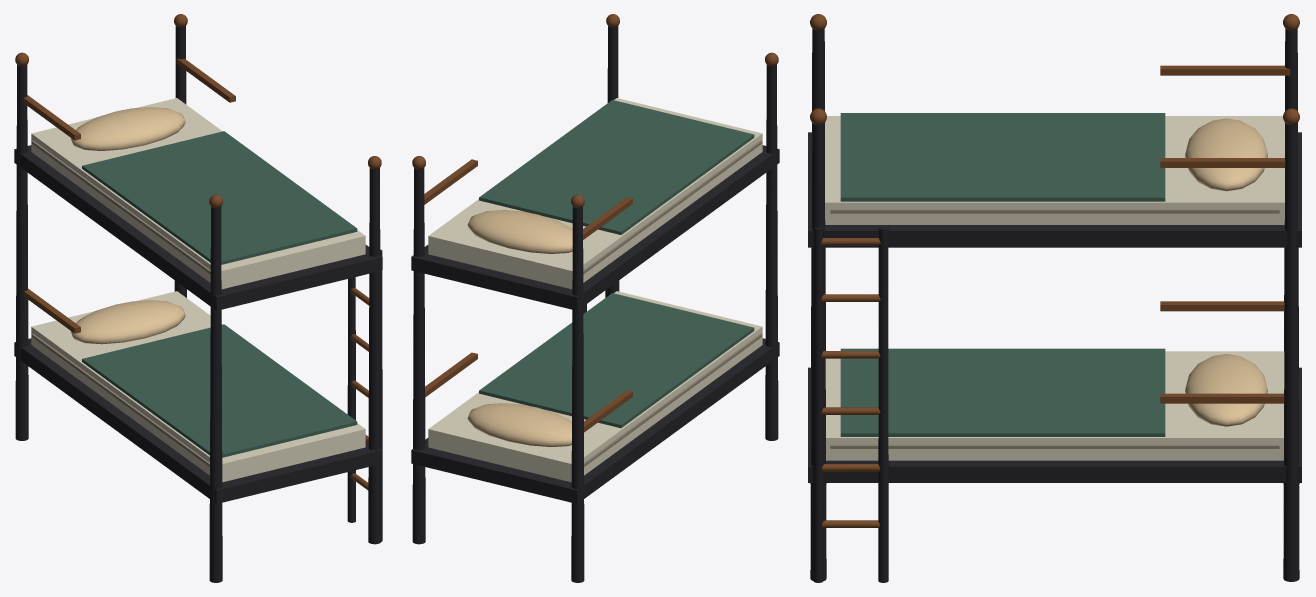
File: mia-bunk.glb
3 renders of one model, left to right at view 1: azimuth 30°, elevation 25°; view 2: azimuth 150°, elevation 25°; view 3: azimuth 270°, elevation 25°, orthographic. The views are drawn at different scales.
Visible parts, largest first — view 1: Body_sage, Body_iron, Body_mattress, Body_ivory, Body_rust, Body_mattress-seam; view 2: Body_sage, Body_iron, Body_mattress, Body_ivory, Body_rust, Body_mattress-seam; view 3: Body_sage, Body_iron, Body_mattress, Body_rust, Body_ivory, Body_mattress-seam.
Part boxes in pixels (x1,y1,x2,y2): Body_sage: (82,131,357,457); Body_iron: (14,26,382,582); Body_mattress: (31,98,365,482); Body_ivory: (70,107,185,344); Body_rust: (15,14,381,490); Body_mattress-seam: (31,140,210,466); Body_sage: (479,100,754,428); Body_iron: (411,26,779,582); Body_mattress: (428,98,762,482); Body_ivory: (467,210,572,446); Body_rust: (412,14,778,432); Body_mattress-seam: (583,140,762,466); Body_sage: (840,113,1165,436); Body_iron: (808,29,1301,582); Body_mattress: (825,116,1284,460); Body_rust: (810,14,1299,527); Body_ivory: (1185,118,1267,426); Body_mattress-seam: (830,209,1279,448).
Size of the model in its own units: 0.933 by 1.99 by 1.9.
